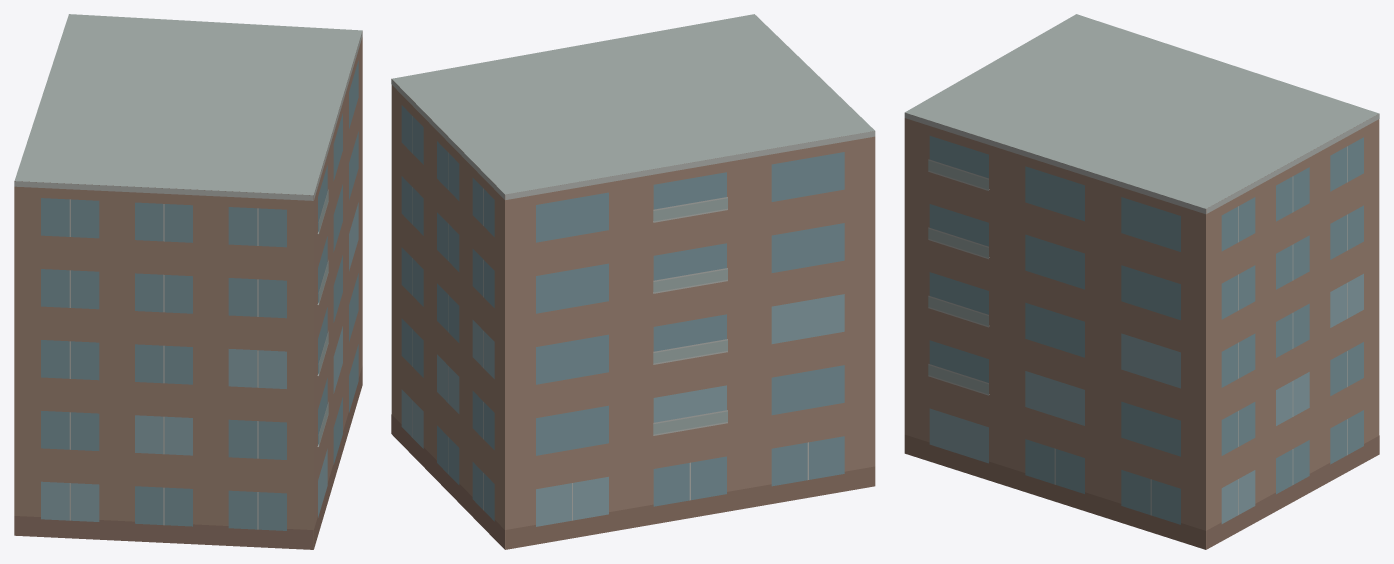
File: survey-upis-33041955.glb
3 views of the same model, side by side, from view 1: azimuth 30°, elevation 25°; view 2: azimuth 150°, elevation 25°; view 3: azimuth 270°, elevation 25° (orthographic). The views are drawn at different scales.
Visible parts, largest first — view 1: survey-upis-33041955.tmp; view 2: survey-upis-33041955.tmp; view 3: survey-upis-33041955.tmp.
Part boxes in pixels (x1=…): survey-upis-33041955.tmp: x1=14, y1=14, x2=362, y2=549; survey-upis-33041955.tmp: x1=391, y1=14, x2=875, y2=549; survey-upis-33041955.tmp: x1=904, y1=14, x2=1379, y2=549.
Bounding box in the file's own units: 18.83 × 15.35 × 19.38.
